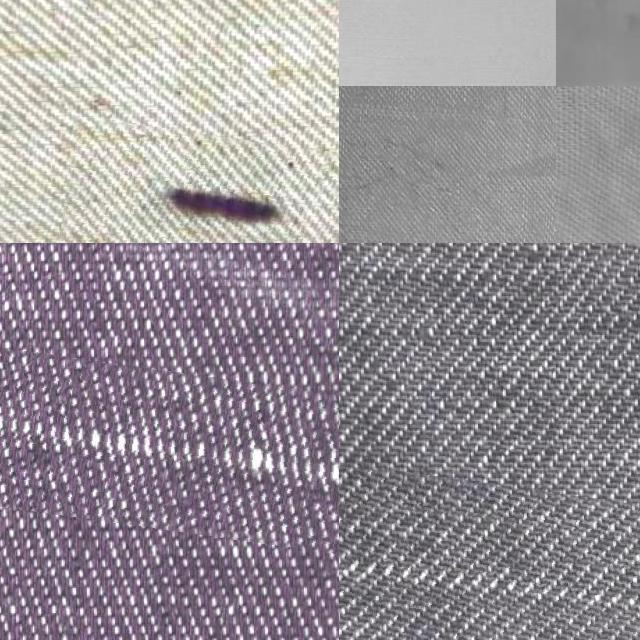Thread_other: (0, 334, 339, 535), (339, 460, 640, 640), (57, 126, 339, 243)
